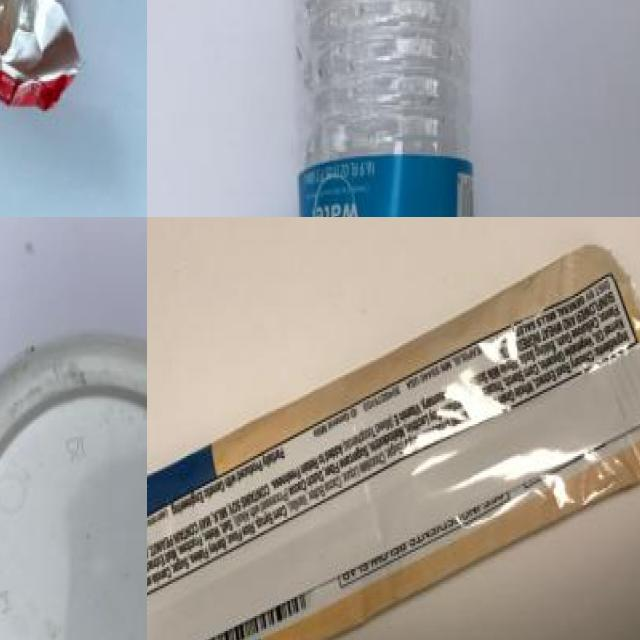plastic: (291, 0, 499, 217), (0, 338, 147, 640)
trash: (147, 268, 640, 640), (0, 0, 117, 128)
